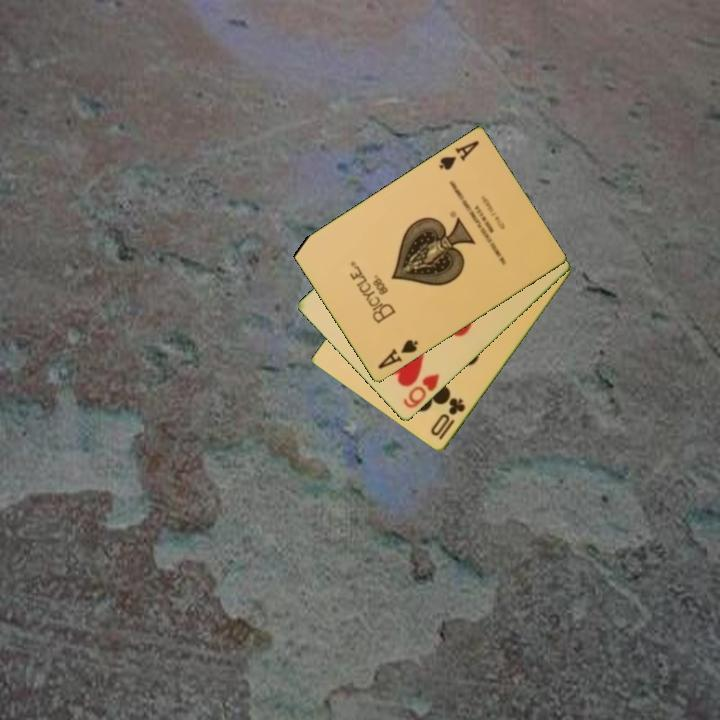10c: (427, 394, 469, 443)
6h: (400, 370, 442, 411)
As: (435, 137, 482, 174), (374, 336, 421, 372)
